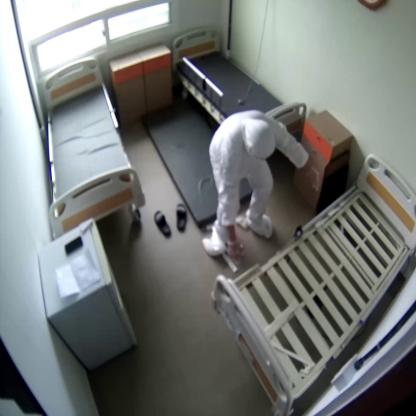Person: (204, 111, 320, 268)
